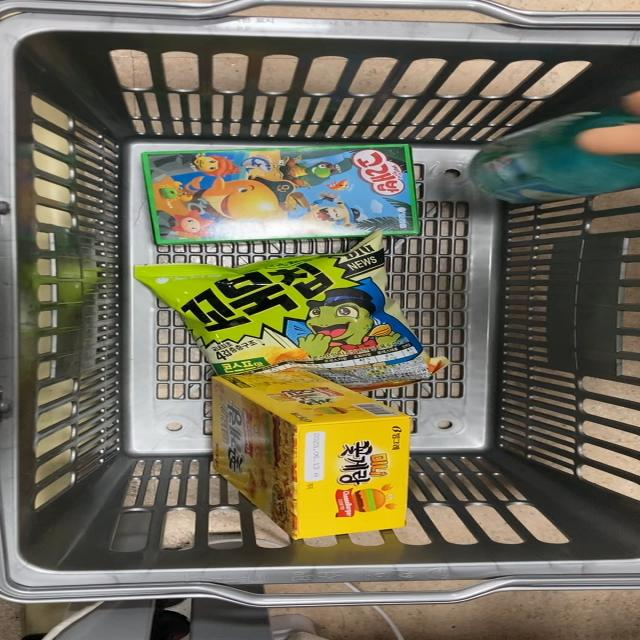ggobukchip: (129, 236, 471, 406)
goraebob: (137, 147, 422, 252)
jinro: (464, 92, 640, 218)
minicrab: (211, 371, 414, 544)
